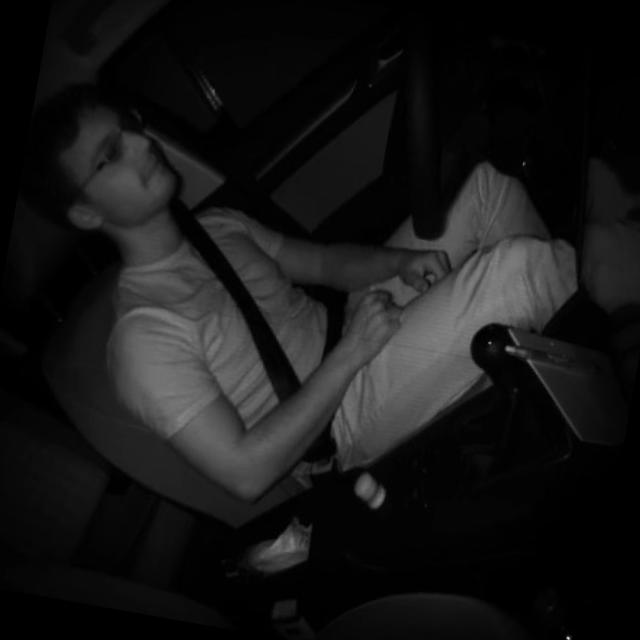pen: (501, 342, 608, 376)
